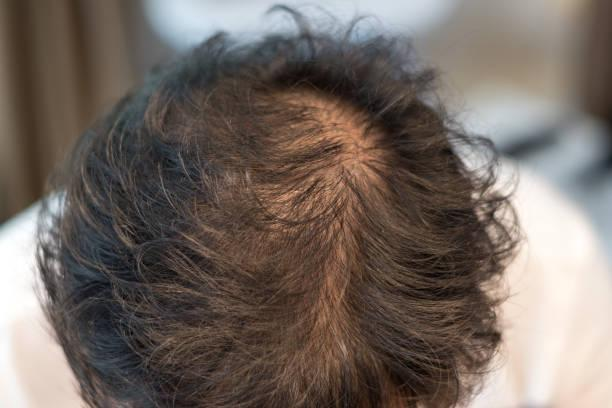dry hair: (105, 270, 251, 355)
low hair density: (281, 82, 379, 178), (328, 181, 363, 282), (256, 182, 319, 234)
